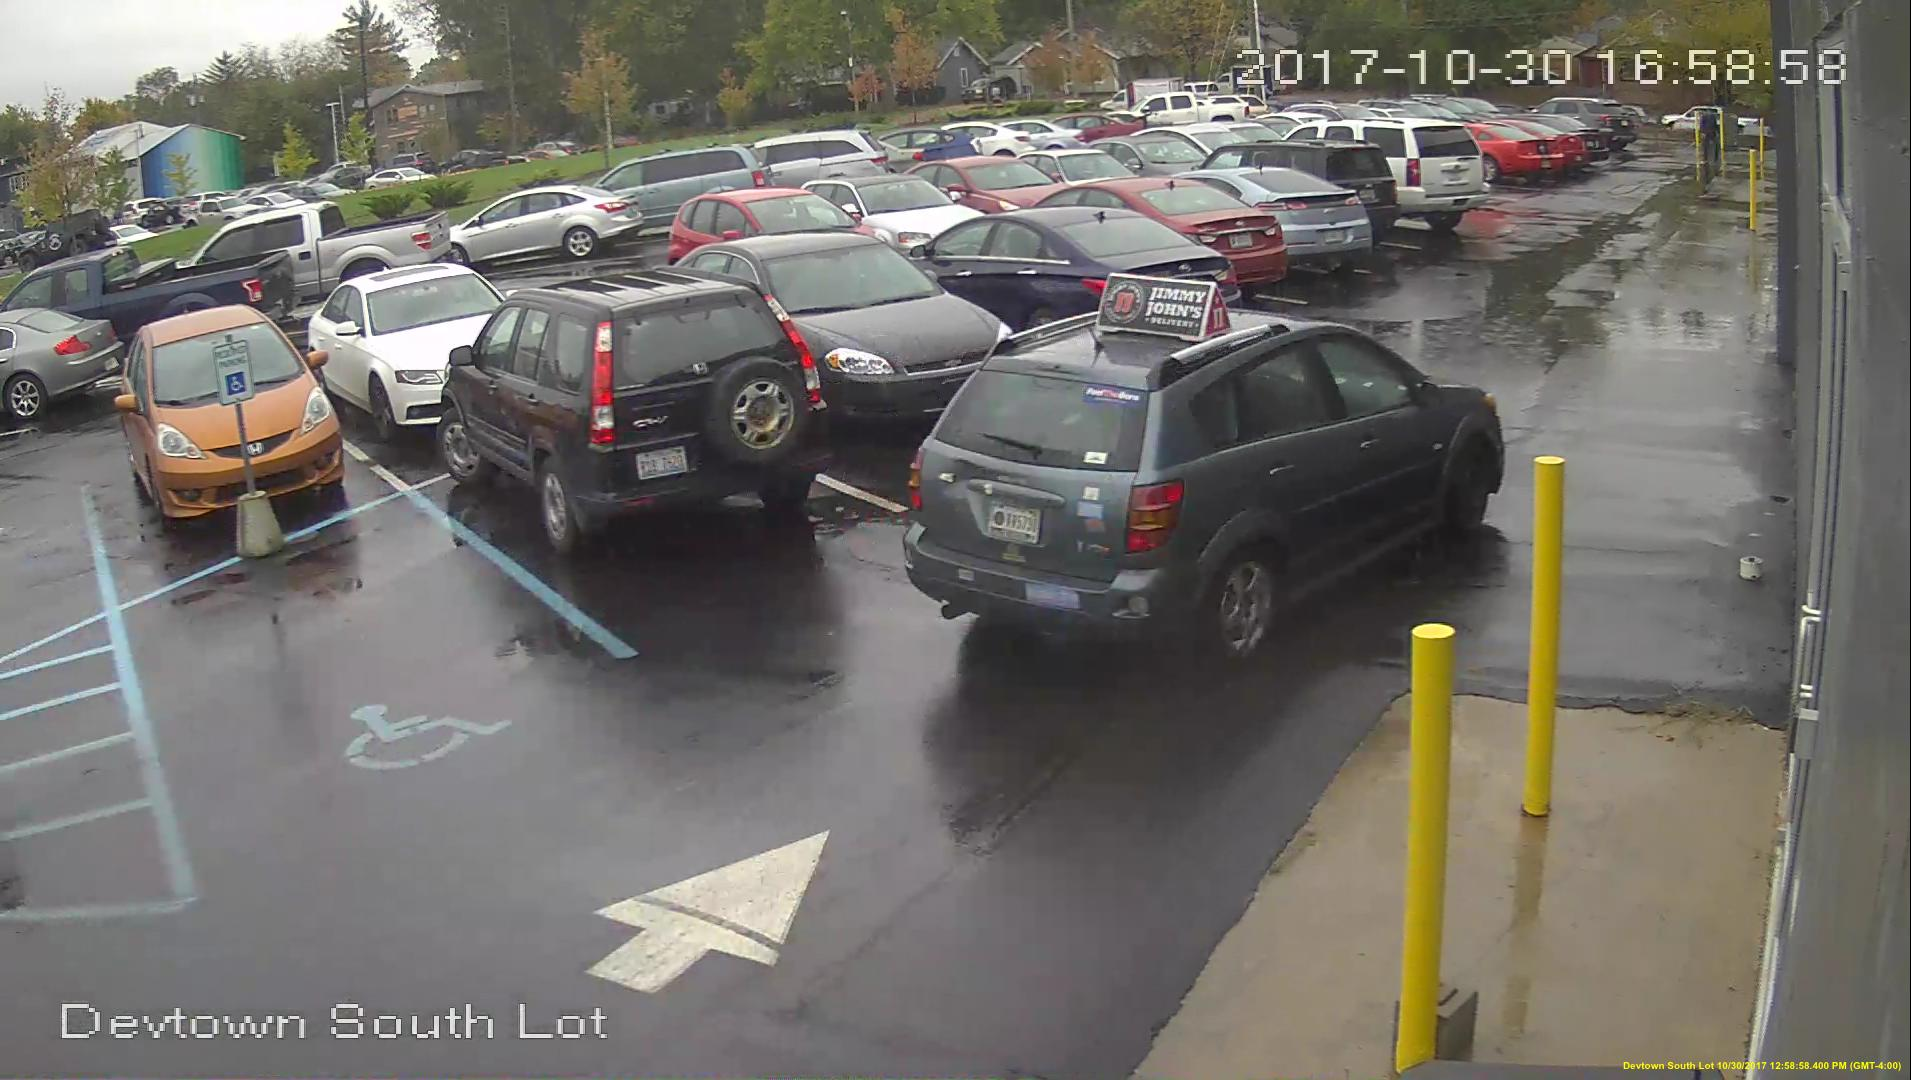jimmy_johns: (1091, 269, 1230, 345)
